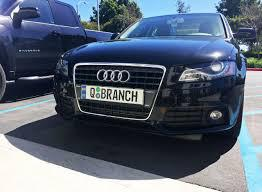A: (113, 88, 118, 101)
B: (100, 88, 107, 99)
C: (125, 90, 131, 101)
H: (131, 90, 138, 102)
N: (119, 89, 125, 101)
Q: (90, 87, 96, 98)
R: (106, 88, 112, 100)
